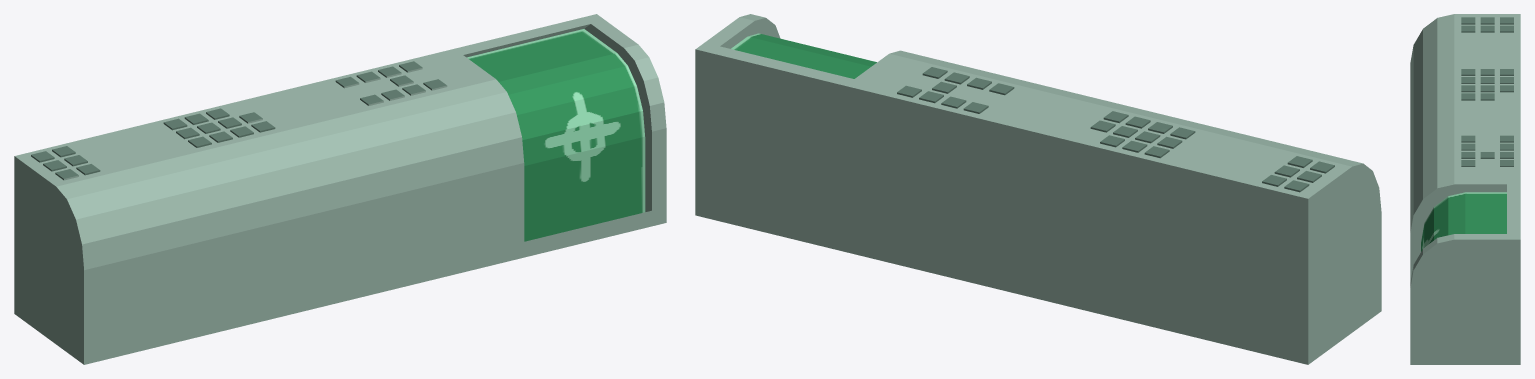
File: Admin-table2.glb
3 renders of one model, left to right at view 1: azimuth 30°, elevation 25°; view 2: azimuth 150°, elevation 25°; view 3: azimuth 270°, elevation 25°, orthographic. The views are drawn at different scales.
Parts seen in each view (by area): view 1: Cube.010; view 2: Cube.010; view 3: Cube.010.
Part boxes in pixels (x1,y1,x2,y2): Cube.010: [14, 14, 666, 364]; Cube.010: [695, 14, 1381, 364]; Cube.010: [1410, 14, 1520, 364].
Size of the model in its own units: 3.86 by 1.01 by 0.8.
Materials: 1 (1 with a texture image).
